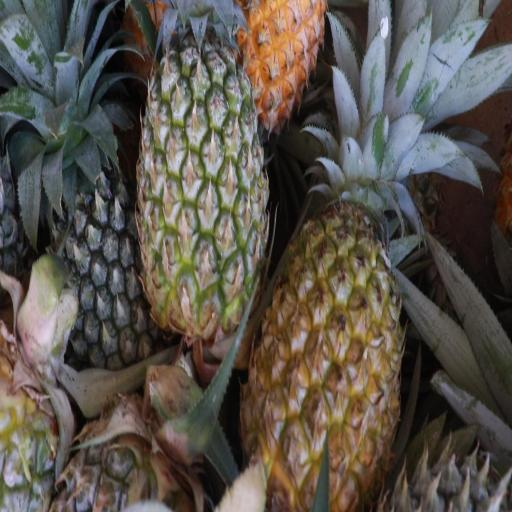------------------------------: (136, 47, 267, 333)
Pineapple - v8 v1: (257, 178, 404, 510), (222, 0, 326, 121)
